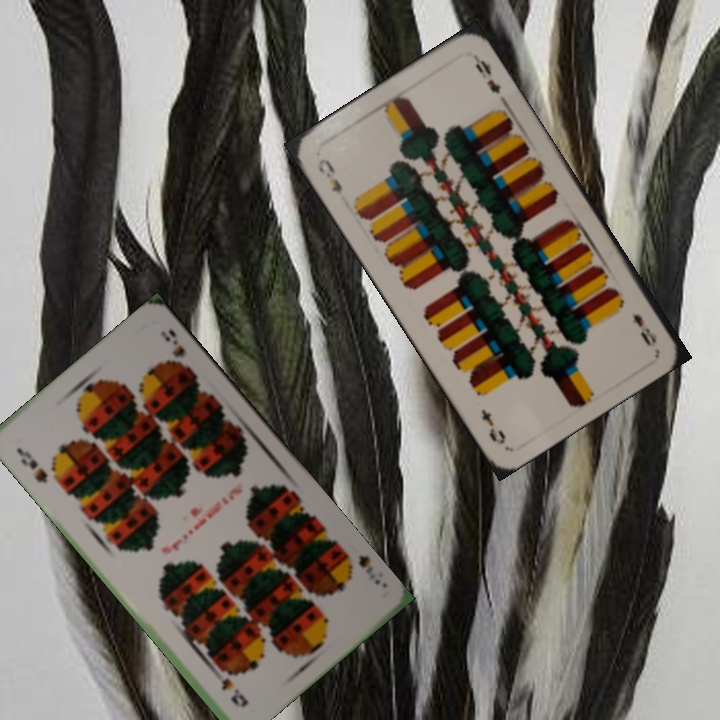E9: (313, 155, 345, 196), (628, 309, 660, 349)
S9: (12, 443, 51, 487), (354, 550, 384, 588)
